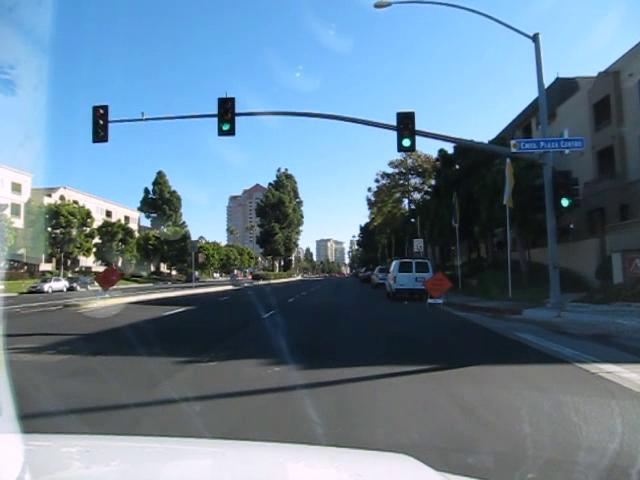speedLimit35: (412, 237, 424, 252)
